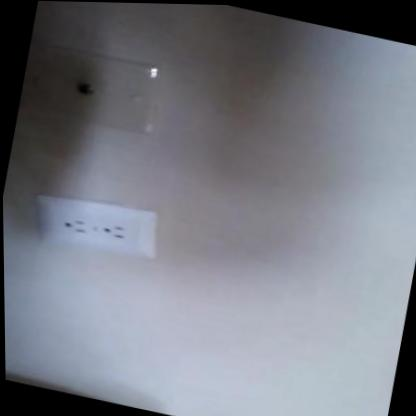OUTLET: (30, 187, 159, 265)
